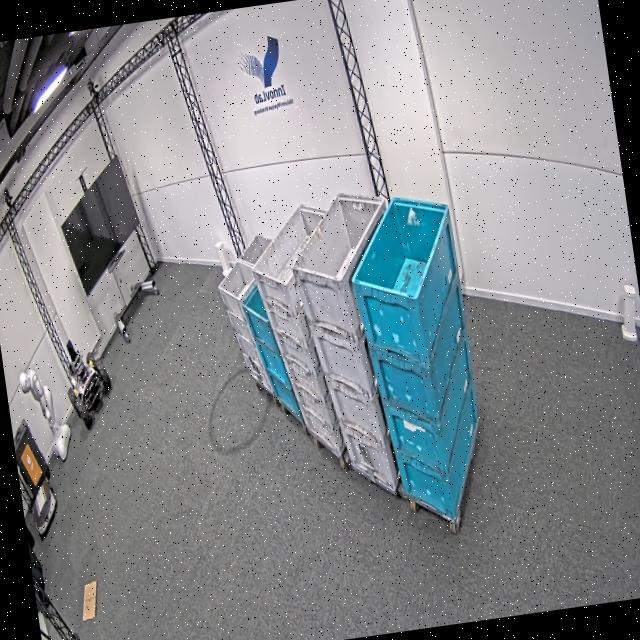Roll3G: (242, 196, 340, 292)
Roll4G: (282, 186, 396, 290)
Roll8G: (211, 230, 282, 304)
RollB4: (340, 187, 463, 310)
RollB8: (239, 282, 271, 328)
